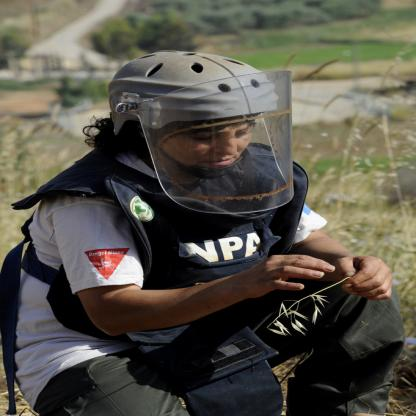Helmet: (103, 50, 300, 218)
